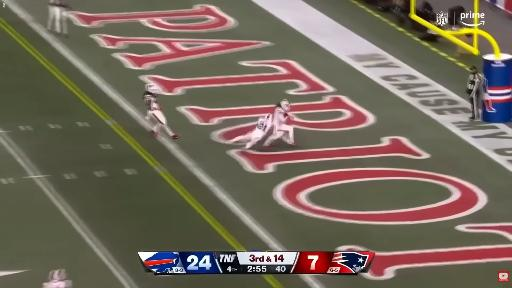Helmet: (49, 269, 66, 281), (145, 84, 159, 93), (280, 100, 290, 112), (265, 113, 272, 119)
Jersey: (143, 92, 159, 110), (256, 115, 272, 132), (274, 107, 286, 126), (43, 281, 72, 287), (53, 0, 69, 8)
Player: (143, 84, 179, 138), (230, 114, 272, 149), (264, 100, 295, 147), (47, 0, 70, 37), (43, 269, 72, 287)
